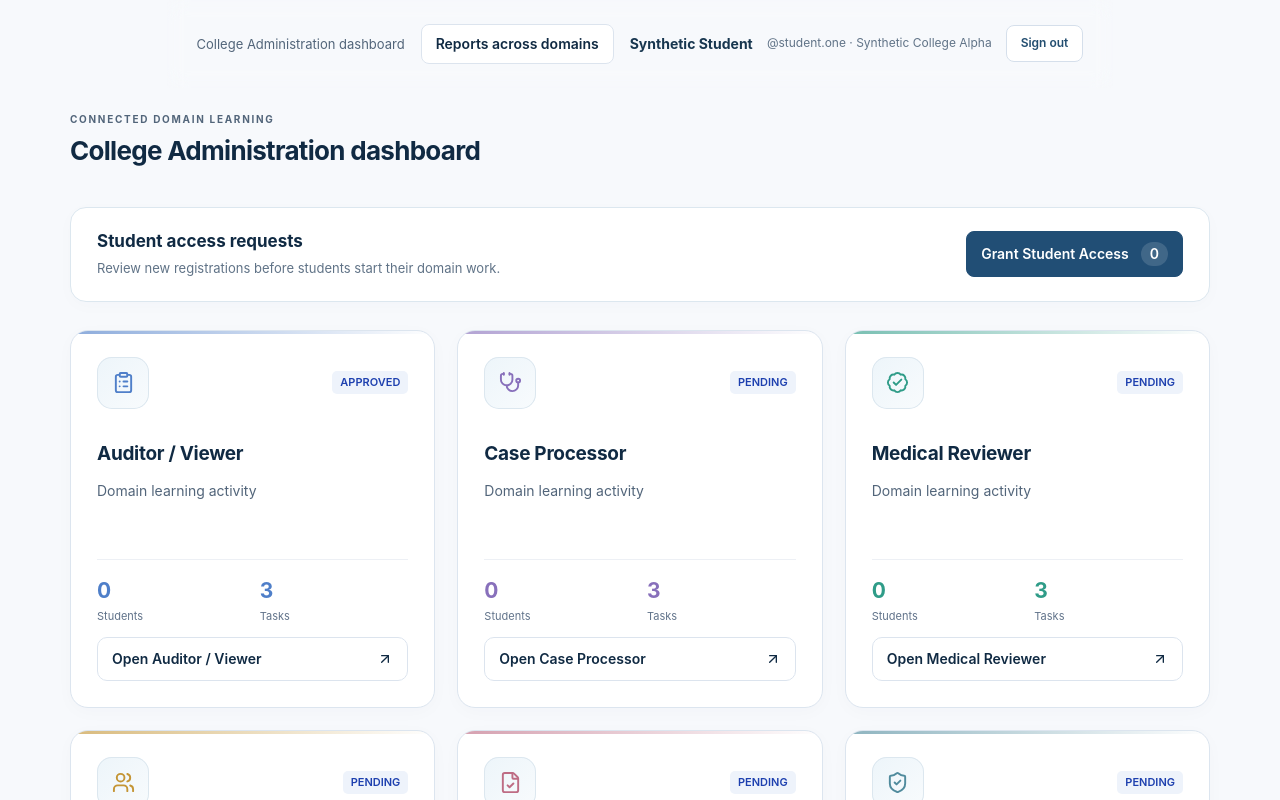
College Administration grants access separately from seven cards without college counts
Click the button "Grant Student Access 0".
click(1075, 254)  # box [966,231,1183,277]
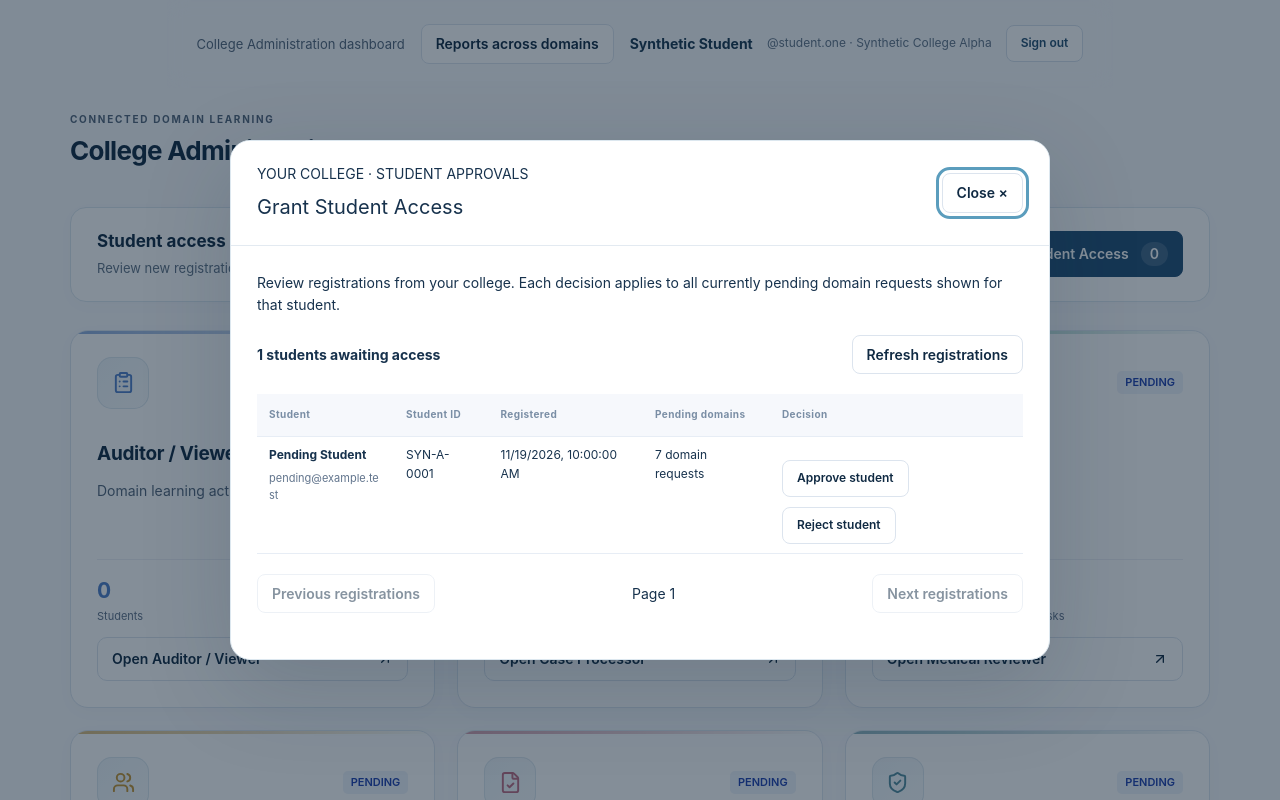
expect the text "pending@example.test" is shown: met, box [269,470,382,504]
Click the button "Approve student".
click(845, 478)  # box [782,460,909,497]
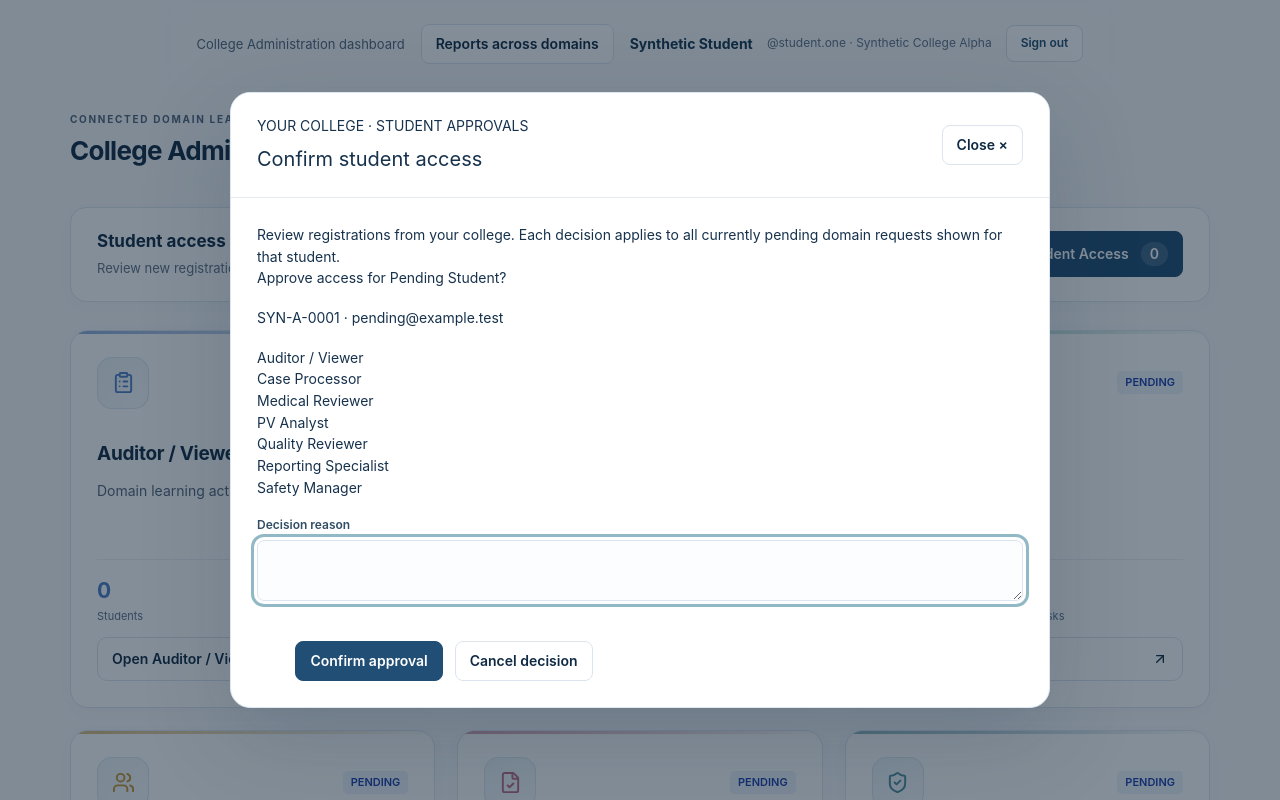
Type "Enrollment verified by college" into the text box labelled "Decision reason".
click(640, 571); type("Enrollment verified by college")  # box [257,540,1023,601]
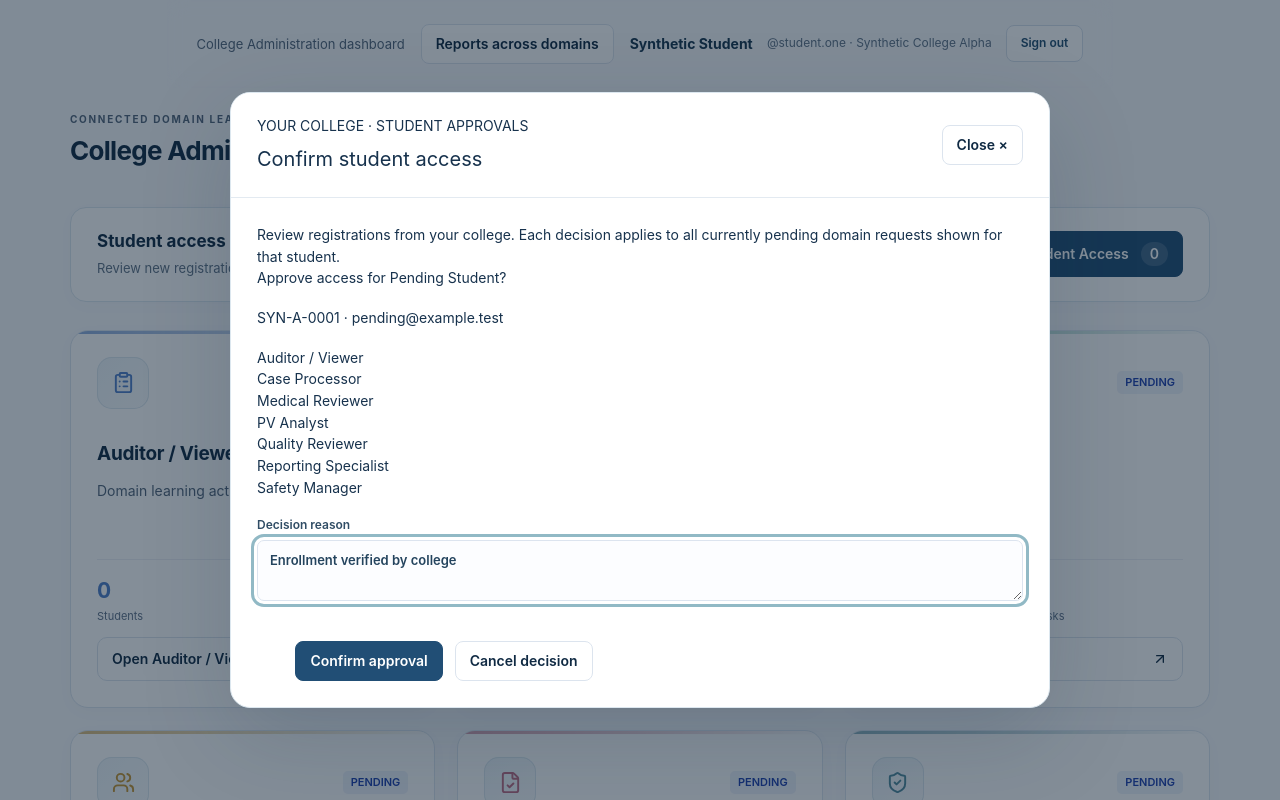
Submit the form named "Confirm student access", box [257,267,1023,681]
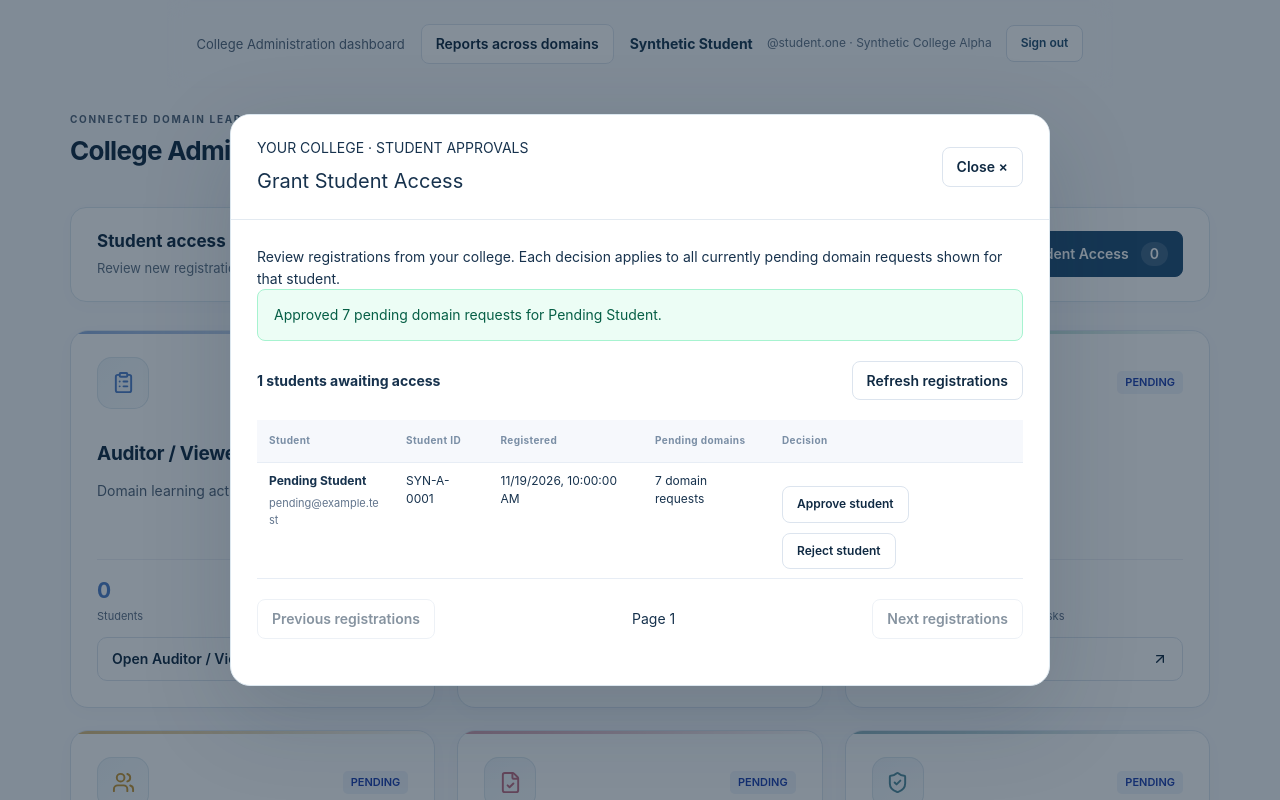
expect the text "Approved 7 pending domain requests for Pending Student." is shown: met, box [257,289,1023,341]
